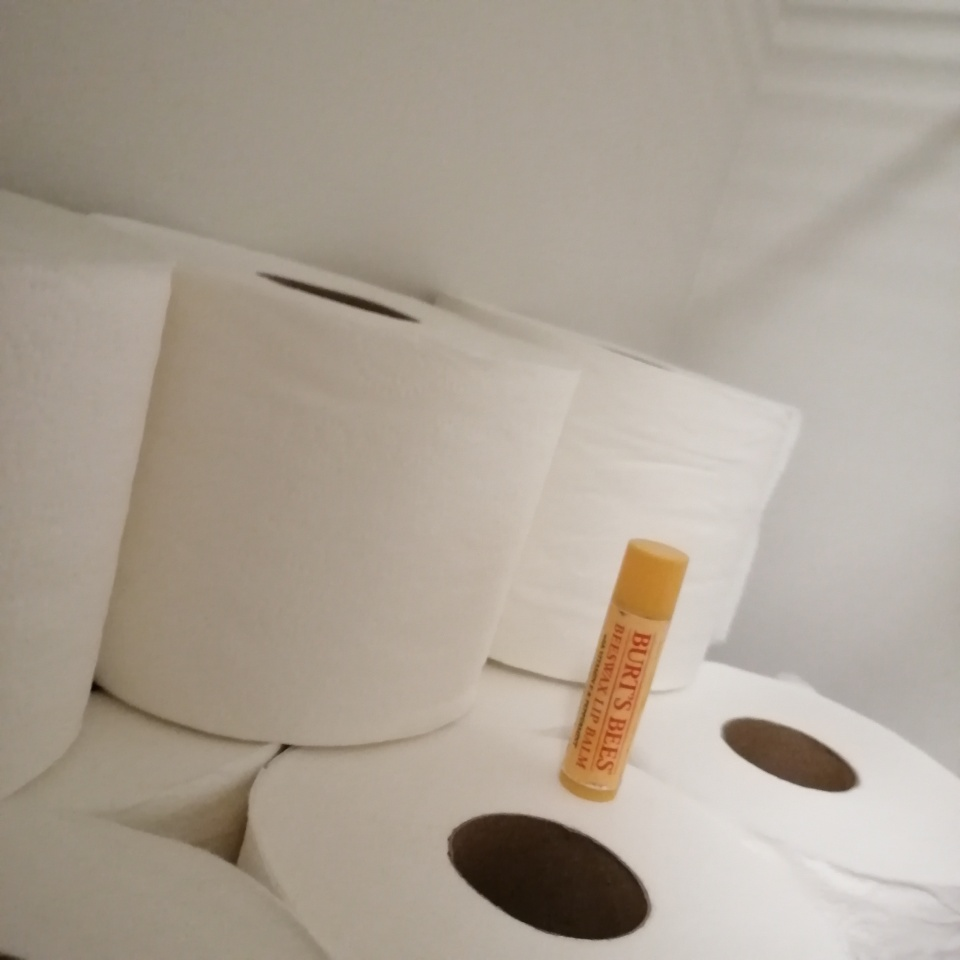chapstick: (559, 538, 690, 802)
